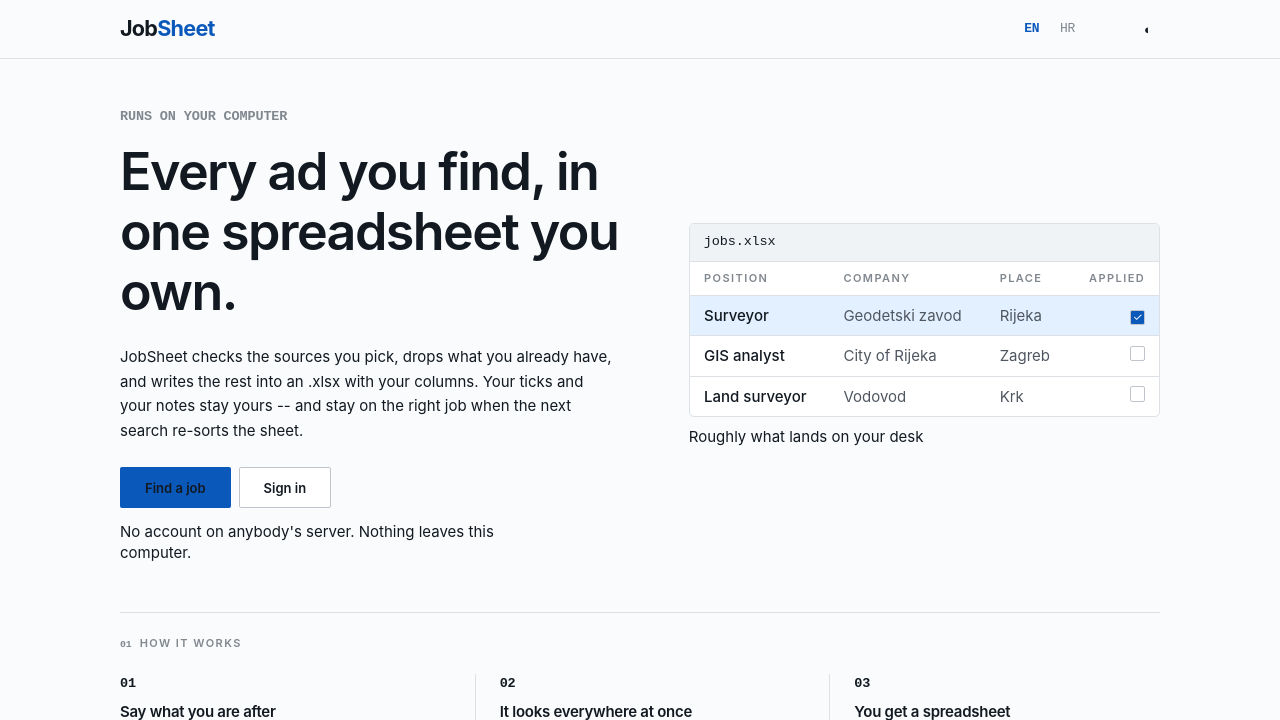
the front page › comes back when the form is left
Click the button "Sign in": (285, 488) [239, 467, 331, 508]
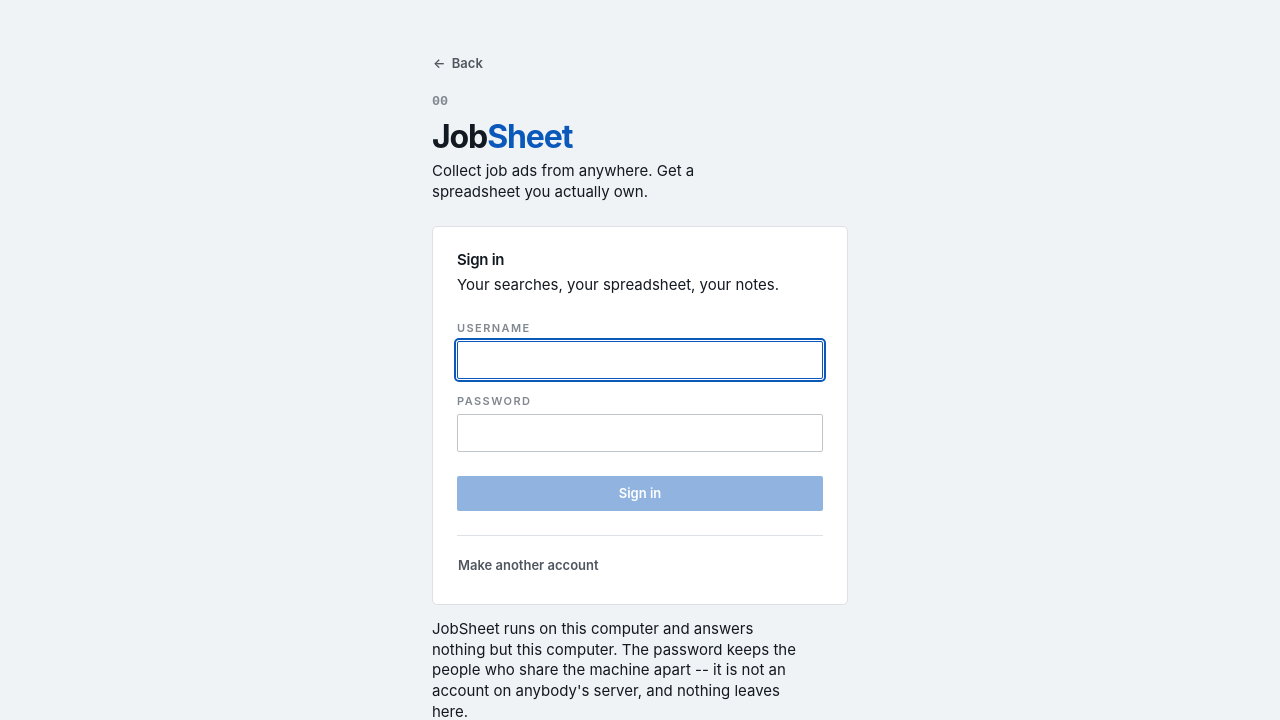
Check: the heading "Sign in" is shown, box [457, 250, 504, 269]
Click the button "← Back": (458, 63) [432, 48, 484, 78]
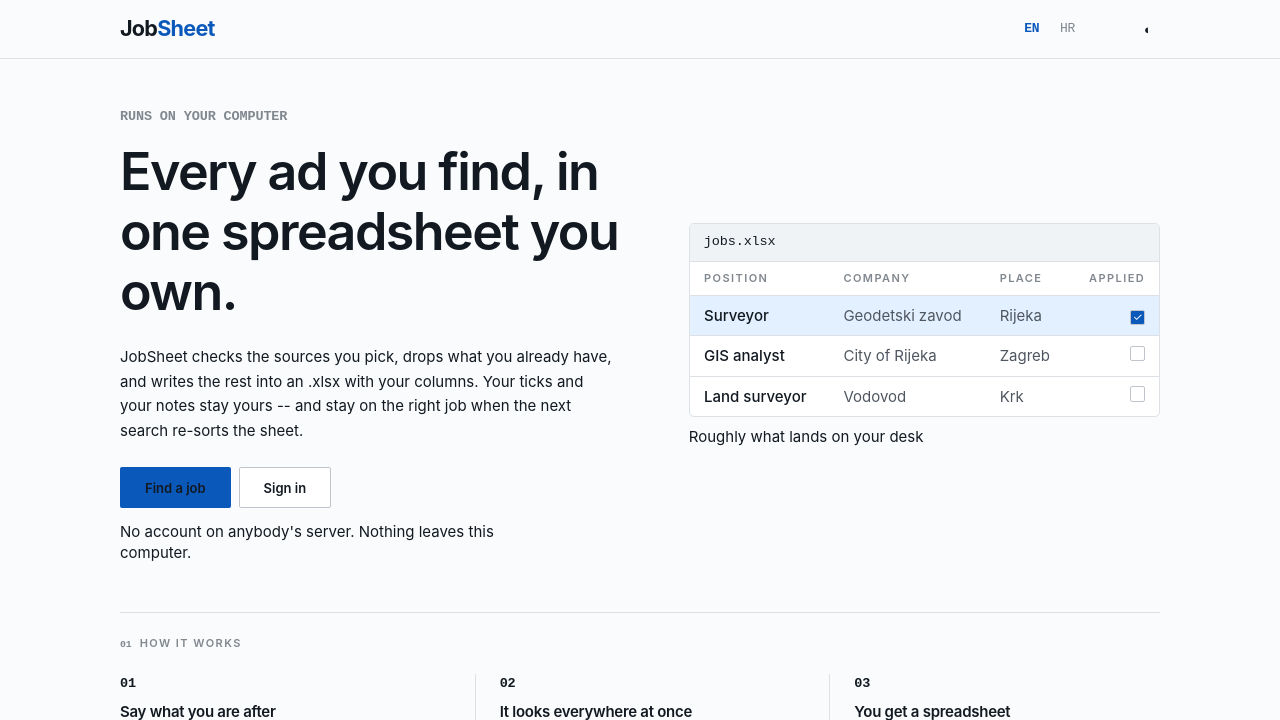
Check: the heading "Every ad you find, in one spreadsheet you own." is shown, box [120, 142, 641, 322]
